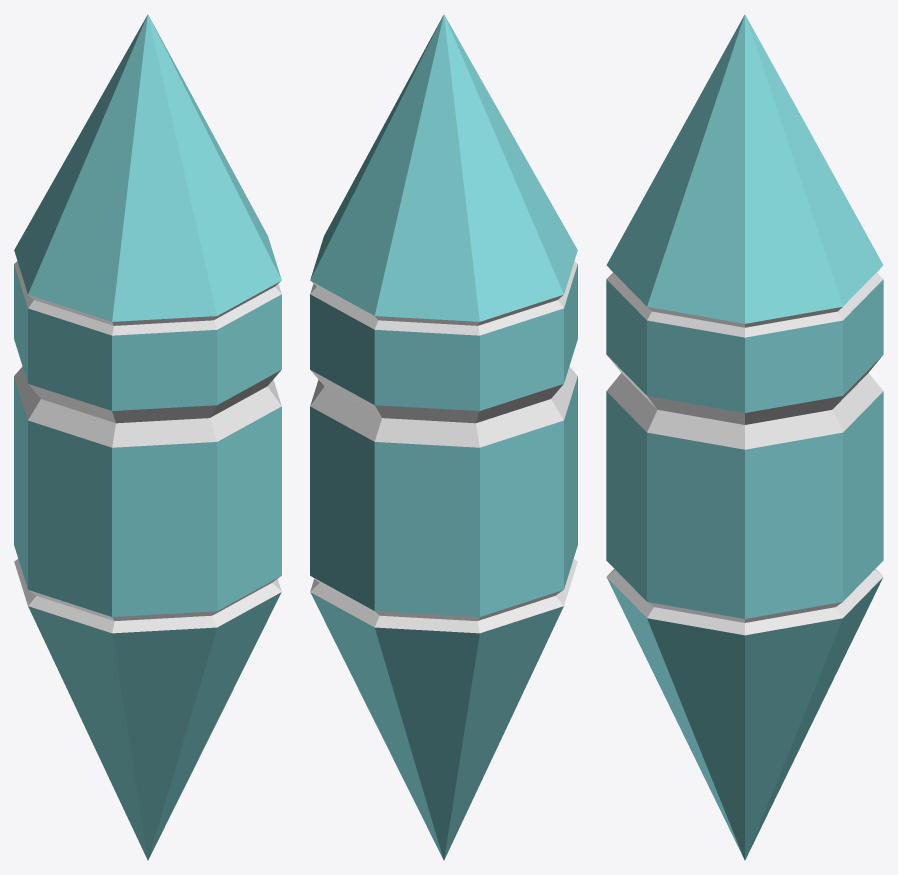
File: Rune.fbx
3 renders of one model, left to right at view 1: azimuth 30°, elevation 25°; view 2: azimuth 150°, elevation 25°; view 3: azimuth 270°, elevation 25°, orthographic.
Visible parts, largest first — view 1: Cylinder; view 2: Cylinder; view 3: Cylinder.
Boxes of the visible parts, x1=… form: Cylinder: x1=14, y1=14, x2=281, y2=860; Cylinder: x1=310, y1=14, x2=577, y2=860; Cylinder: x1=606, y1=14, x2=883, y2=860.
Bounding box in the file's own units: 159 × 537 × 159.
